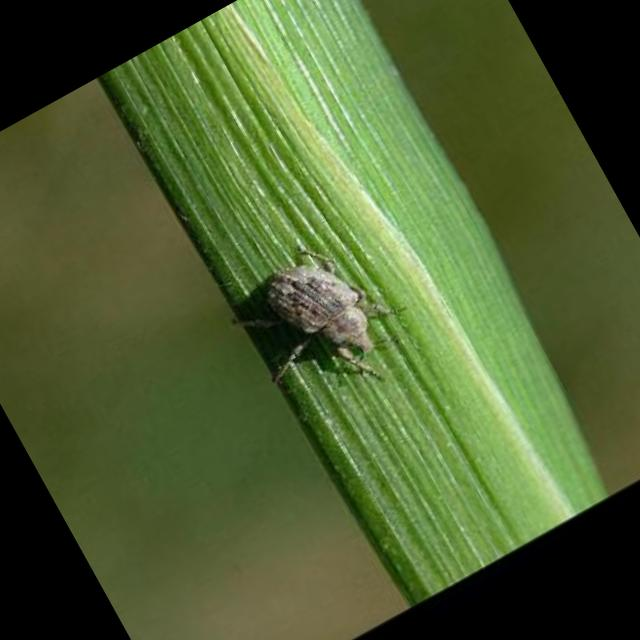rice-bug: (232, 224, 413, 409)
